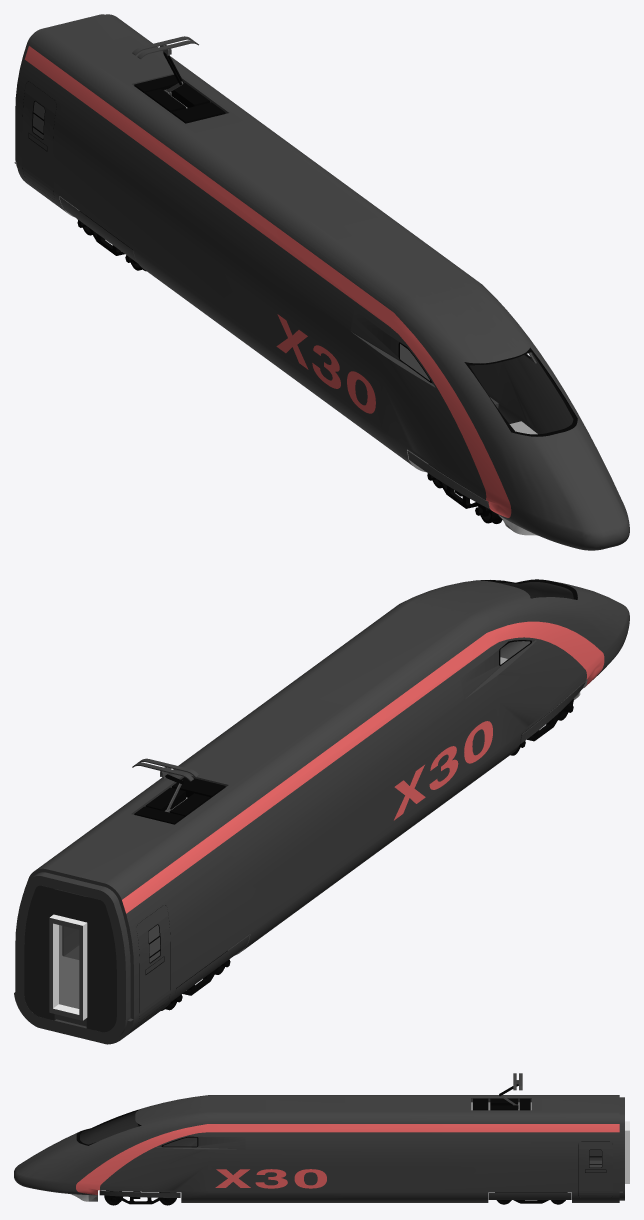
Rendered from highspeed_train_locomotive.glb.
3 renders of one model, top to bottom at view 1: azimuth 30°, elevation 25°; view 2: azimuth 150°, elevation 25°; view 3: azimuth 270°, elevation 25°, orthographic. The views are drawn at different scales.
Visible parts, largest first — view 1: instance_177, instance_169, mesh_10_instance_4, instance_186, instance_182, mesh_1_instance_2, instance_184; view 2: instance_177, group_0, Box_1, Box_3, instance_169, mesh_10_instance_4, Box_4, Box_2, instance_186, Box, mesh_1_instance_2; view 3: instance_177, mesh_10_instance_5, instance_169, instance_185, mesh_0_instance_2, instance_183, group_0, Line004_meta_0_1.
Part boxes in pixels (x1=…): instance_177: x1=14, y1=14, x2=629, y2=550; instance_169: x1=127, y1=72, x2=233, y2=125; mesh_10_instance_4: x1=22, y1=81, x2=56, y2=199; instance_186: x1=350, y1=310, x2=435, y2=387; instance_182: x1=464, y1=347, x2=577, y2=436; mesh_1_instance_2: x1=59, y1=196, x2=137, y2=262; instance_184: x1=407, y1=450, x2=490, y2=509; instance_177: x1=14, y1=580, x2=629, y2=1044; group_0: x1=49, y1=914, x2=87, y2=1020; Box_1: x1=87, y1=913, x2=116, y2=1029; Box_3: x1=24, y1=900, x2=53, y2=1016; instance_169: x1=127, y1=773, x2=232, y2=826; mesh_10_instance_4: x1=136, y1=905, x2=170, y2=1022; Box_4: x1=30, y1=885, x2=63, y2=1020; Box_2: x1=86, y1=896, x2=110, y2=1032; instance_186: x1=460, y1=639, x2=536, y2=699; Box: x1=53, y1=889, x2=87, y2=924; mesh_1_instance_2: x1=172, y1=935, x2=249, y2=1000; instance_177: x1=14, y1=1095, x2=624, y2=1202; mesh_10_instance_5: x1=578, y1=1142, x2=612, y2=1197; instance_169: x1=469, y1=1097, x2=533, y2=1110; instance_185: x1=156, y1=1136, x2=245, y2=1149; mesh_0_instance_2: x1=488, y1=1193, x2=571, y2=1199; instance_183: x1=99, y1=1190, x2=180, y2=1197; group_0: x1=625, y1=1121, x2=629, y2=1183; Line004_meta_0_1: x1=107, y1=1195, x2=173, y2=1204.
Bounding box in the file's own units: 3.5 × 5.94 × 28.29.
